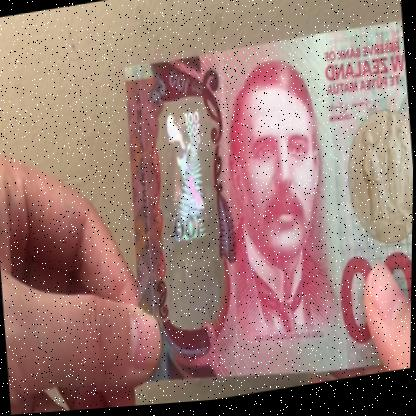100F: (156, 105, 220, 313)
